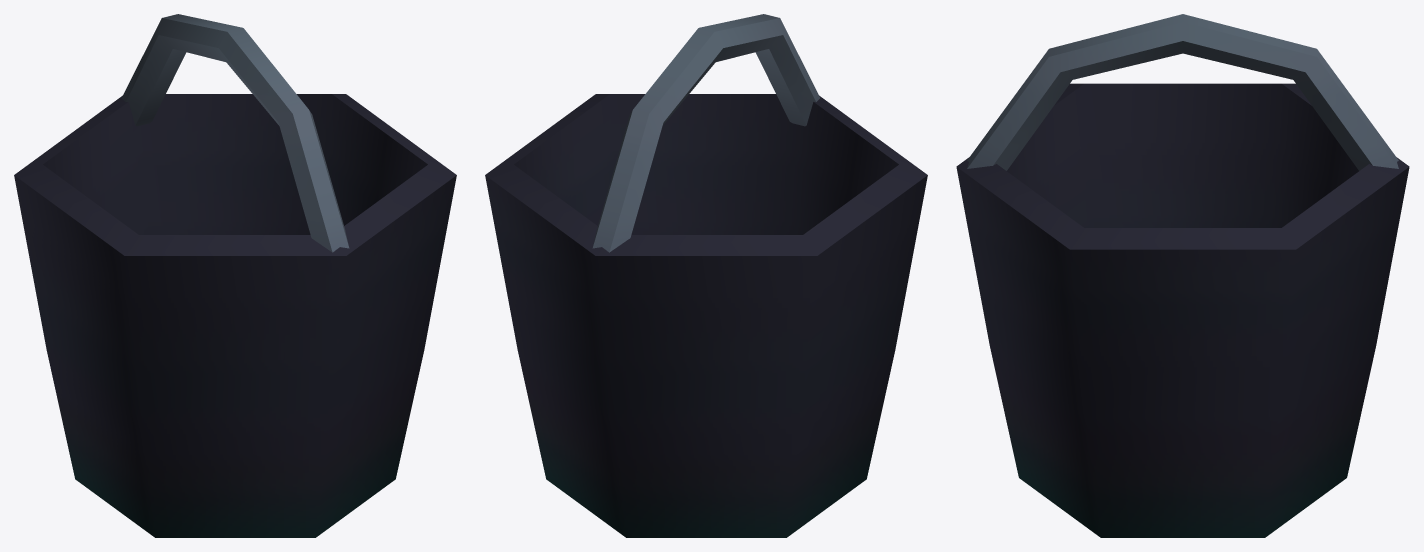
File: Bucket_1_A_1.fbx
3 renders of one model, left to right at view 1: azimuth 30°, elevation 25°; view 2: azimuth 150°, elevation 25°; view 3: azimuth 270°, elevation 25°, orthographic. The views are drawn at different scales.
Visible parts, largest first — view 1: Bucket_1_A_1; view 2: Bucket_1_A_1; view 3: Bucket_1_A_1.
Boxes of the visible parts, x1,y1,x2,y2 form: Bucket_1_A_1: (14, 14, 456, 537); Bucket_1_A_1: (485, 14, 927, 537); Bucket_1_A_1: (956, 14, 1409, 537).
Size of the model in its own units: 35.25 by 45.58 by 40.71.
